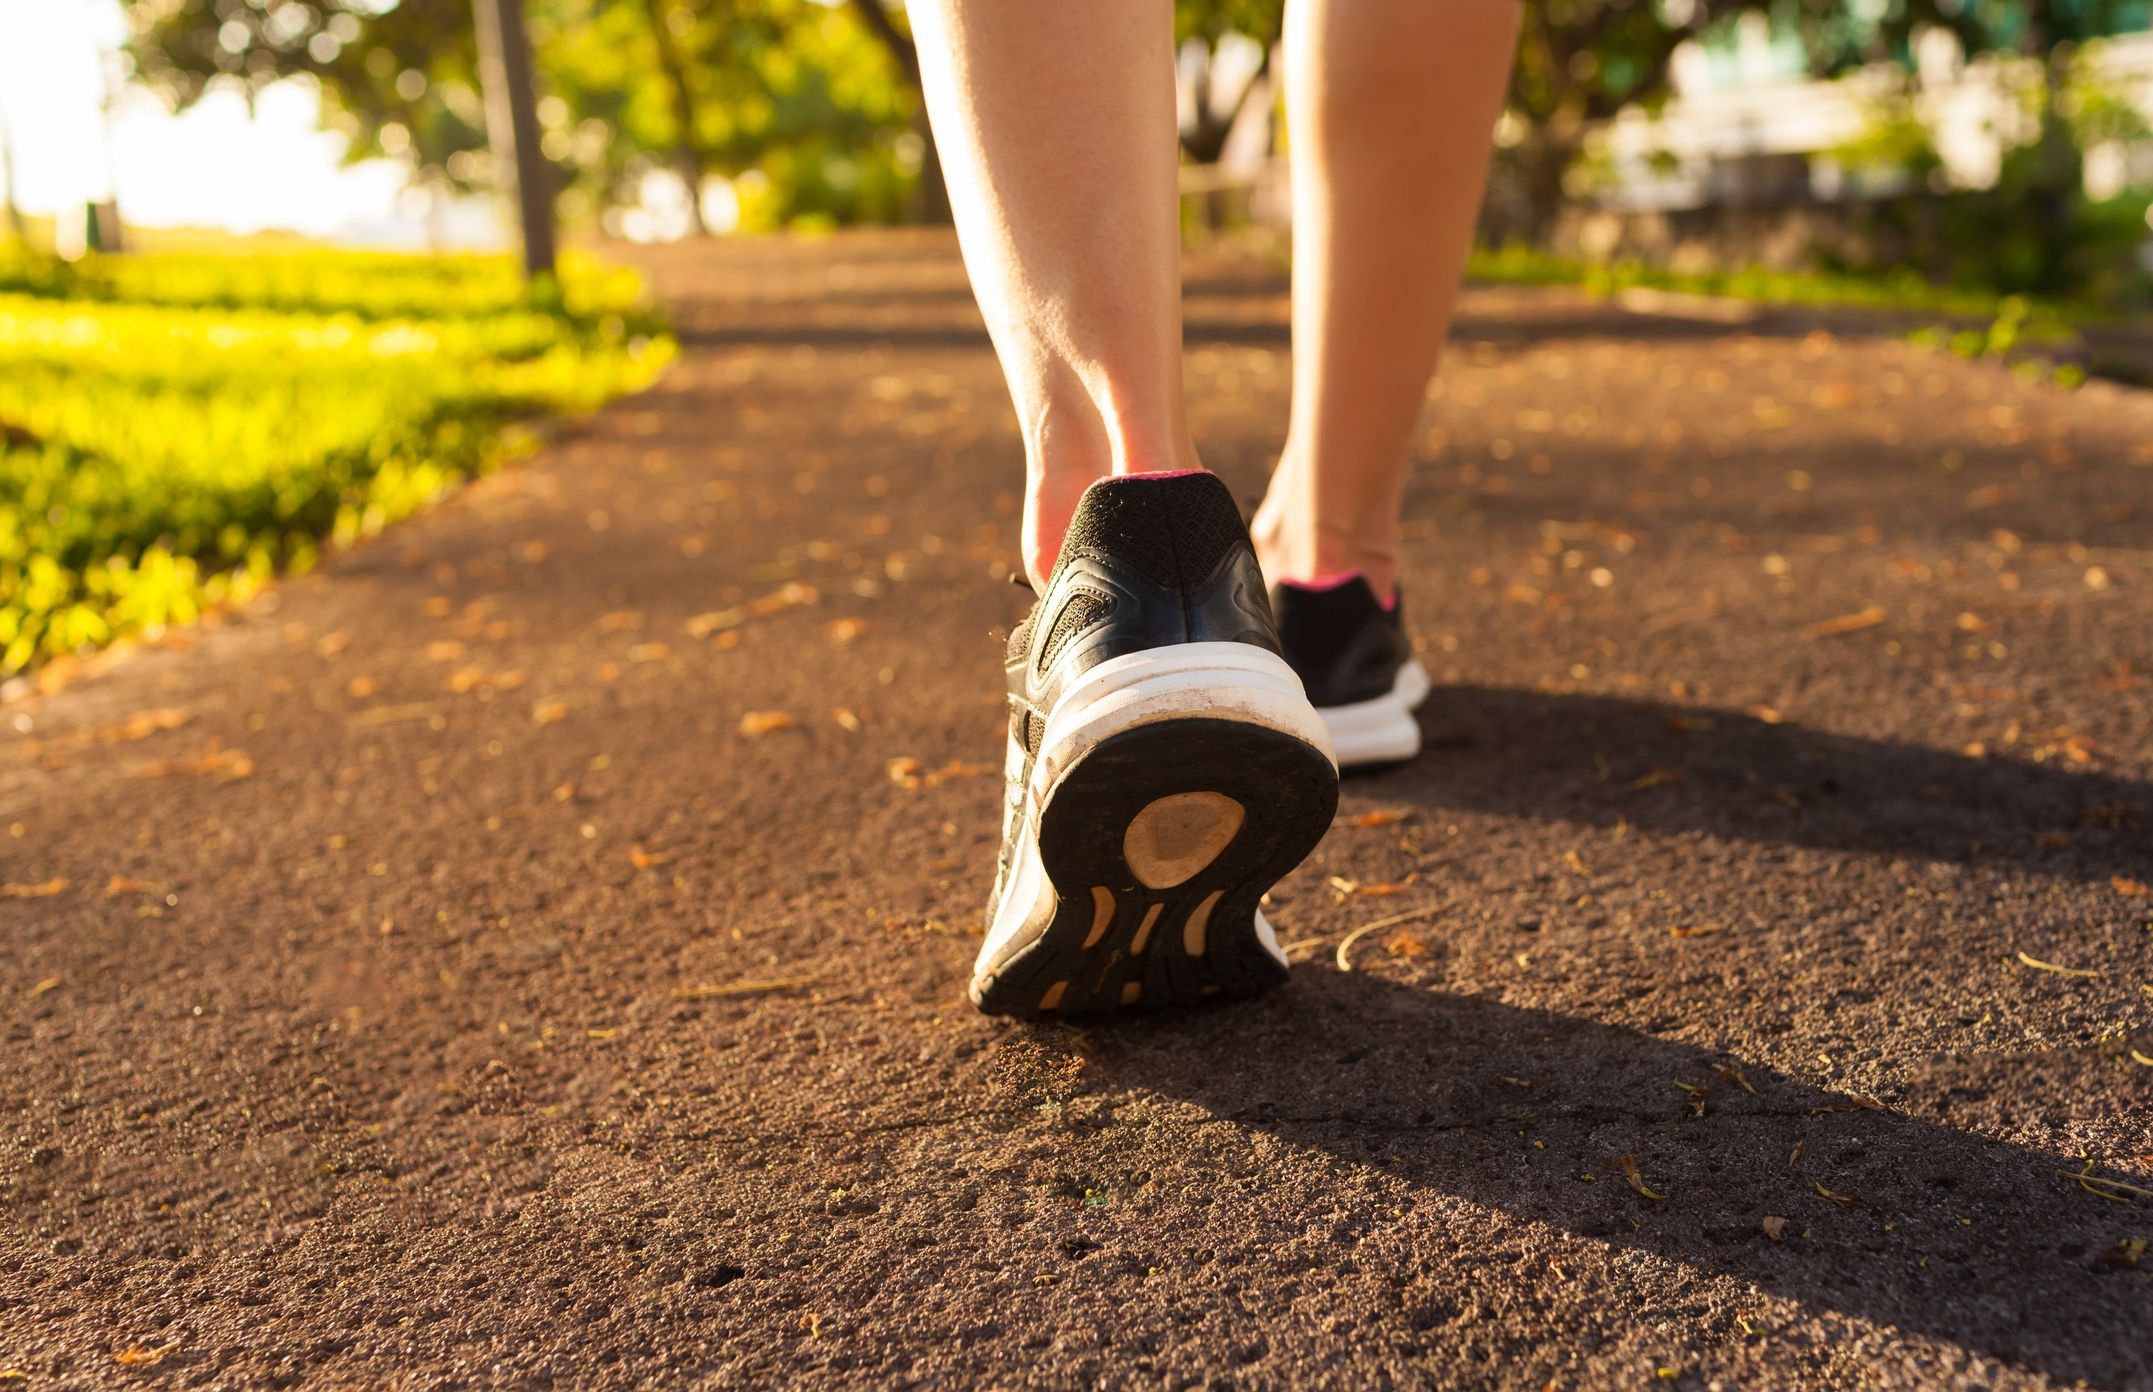feet: (890, 221, 1467, 1064)
